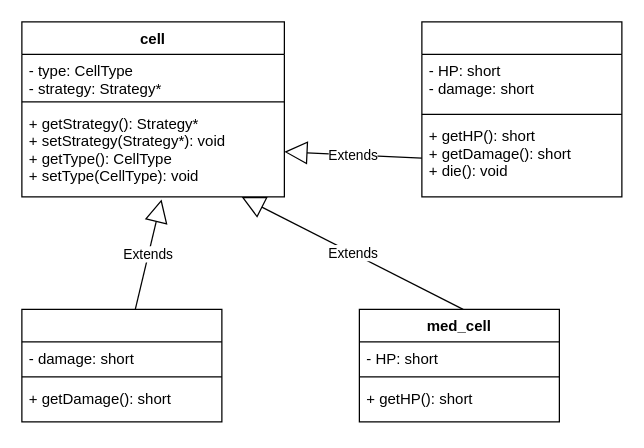
Image size: 644x448. Some labels were removed from this diagram. The box of each missing label's shape, as (x1, y1, x2, y2) in pixels:
enemy_cell: (421, 21, 622, 197)
gun_cell: (21, 308, 222, 422)
